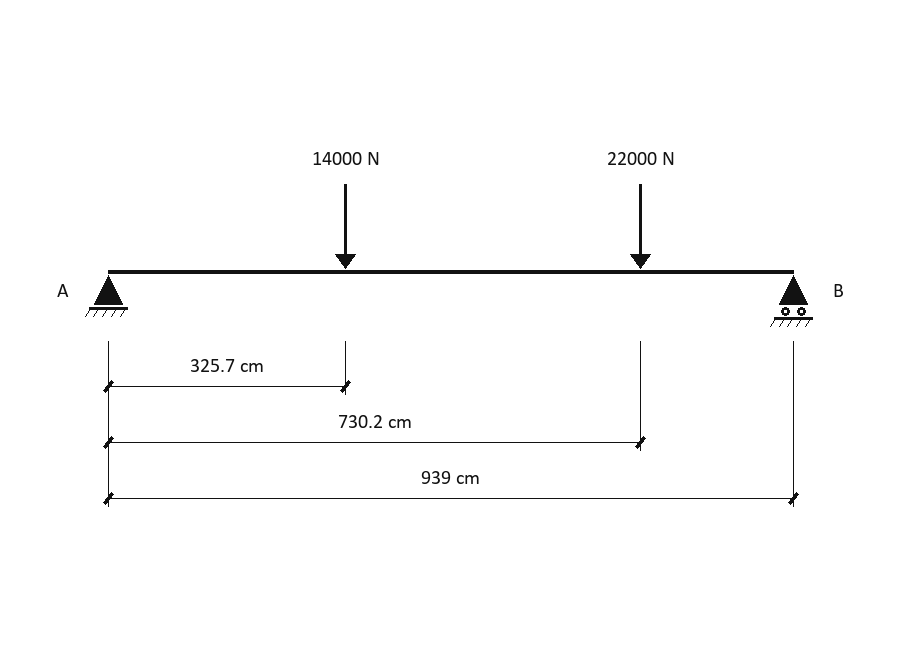pin_support: (85, 275, 128, 317)
point_load: (335, 184, 356, 269), (630, 184, 651, 269)
roller_support: (770, 275, 813, 327)
